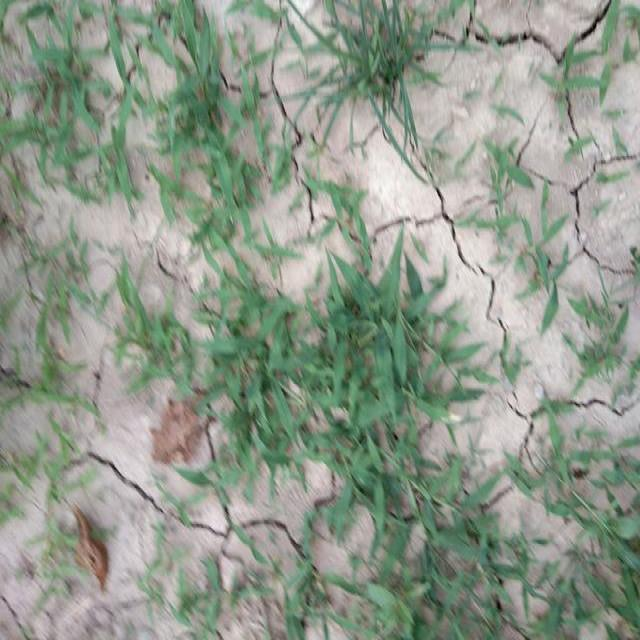weed: (289, 217, 432, 546), (221, 270, 455, 459), (312, 0, 462, 116)
